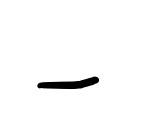minus: (37, 76, 99, 89)
